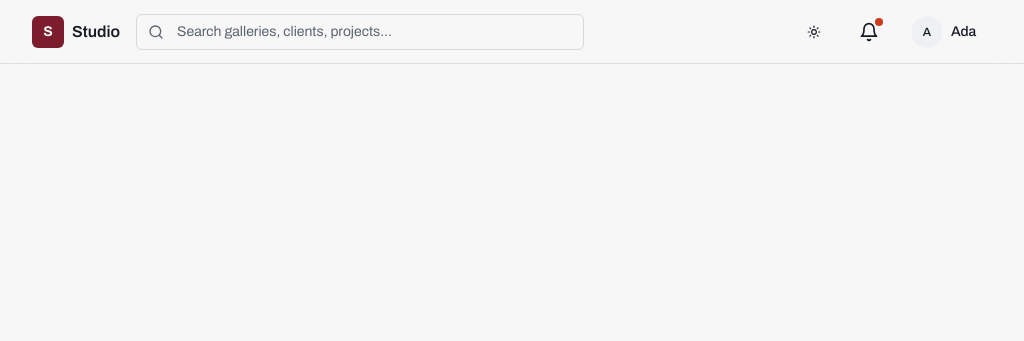
Test: Header notification dropdown: unread accessibility › an unread notification has a visually-hidden "Unread" text alternative alongside the dot
The image size is (1024, 341).
Click the button named "Notifications".
click(869, 32)  # box [851,14,887,50]
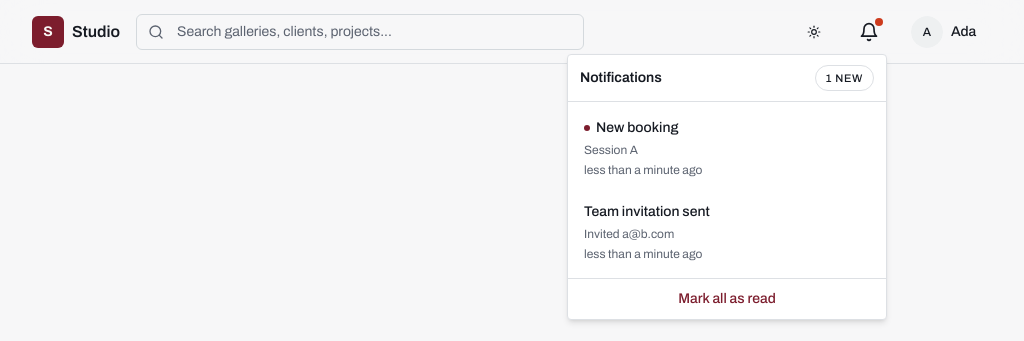
Expected: the menu item named "Unread: New booking" is shown, [583,120,702,177]
